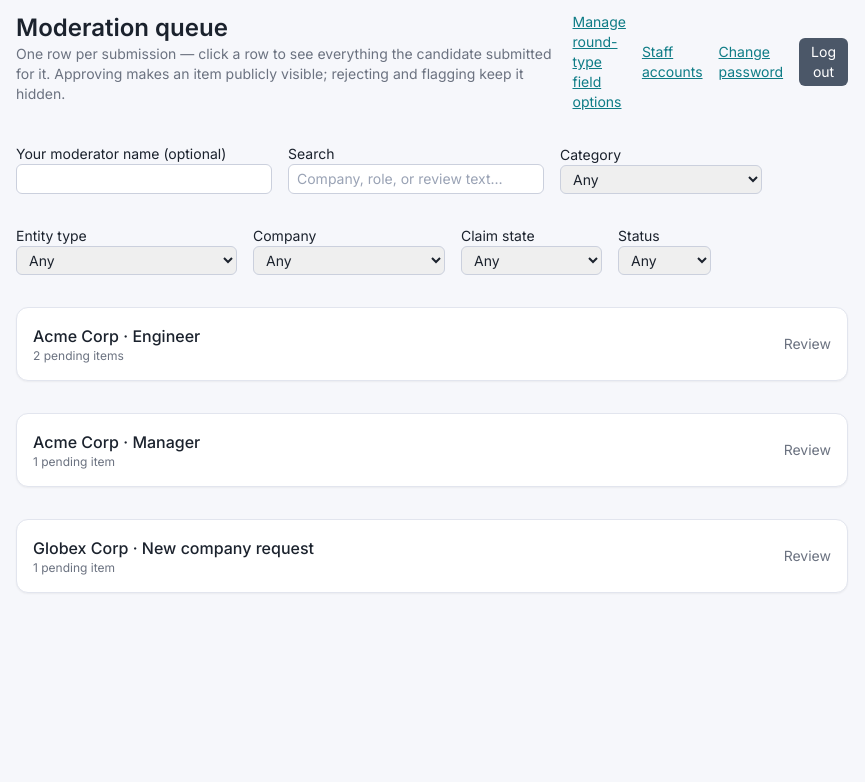
Test: ModerationPage (Phase 14 issue #128; session gating Phase 18 issue #160; grouped-by-submission Phase 29 issue #315) › shows an overdue SLA badge on each entry once its group is expanded
Click the button "Acme Corp · Engineer 2 pending items Review".
click(76, 336)  # box [33,324,831,364]
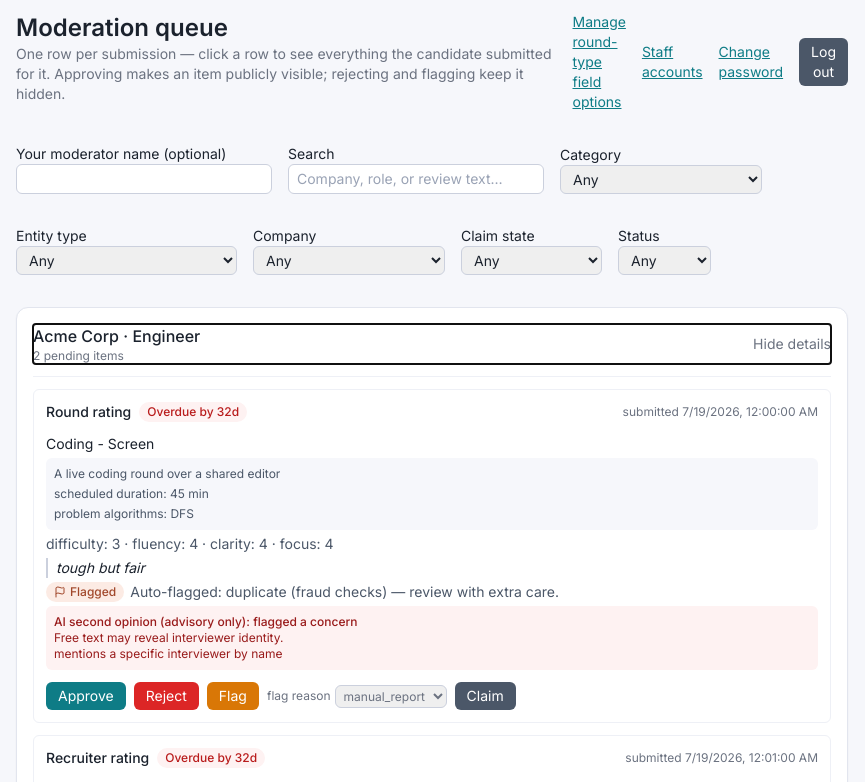
Now the text "Overdue by 32d" next to "Round rating" is shown, box [147,404,239,419]
